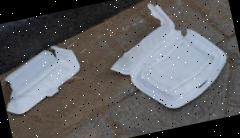general: (98, 0, 234, 121), (0, 40, 87, 117)
